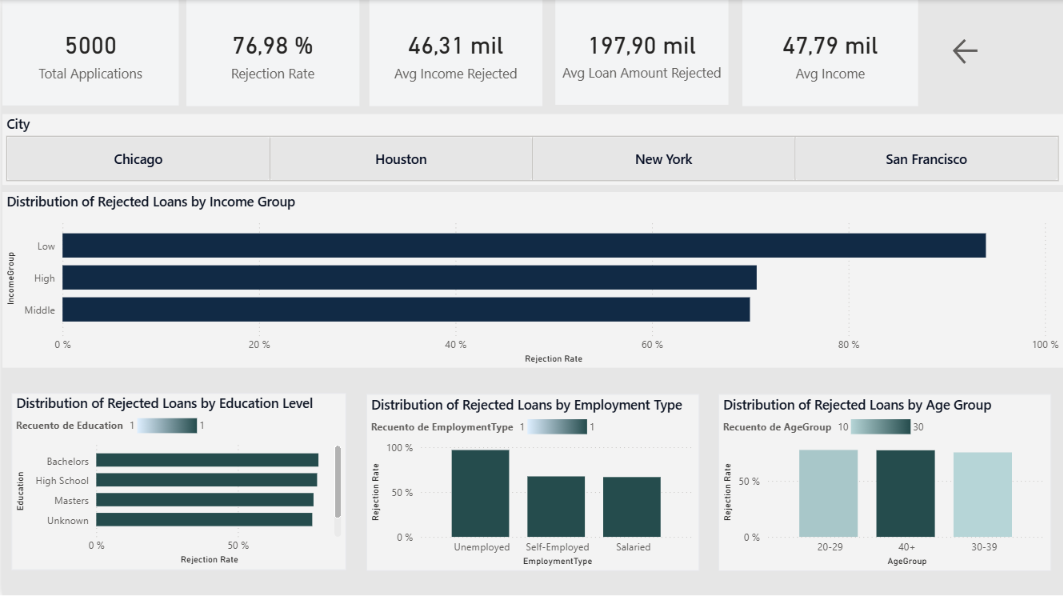

The page's visual inventory and layout, read from the dashboard file:
{"tool":"powerbi","page":{"name":"Loan Rejection Analysis","canvas":[1280,720],"ordinal":2},"visuals":[{"type":"card","fields":{"Values":["Medidas.Avg Loan Amount Rejected"]},"box":[667.2,0,208.7,126.7],"z":0},{"type":"card","fields":{"Values":["LoanRiskPrediction.Rejection Rate"]},"box":[222,0,208.7,127.9],"z":1000},{"type":"card","fields":{"Values":["LoanRiskPrediction.Total Solicitudes"]},"box":[0,0,212.8,127.2],"z":2000},{"type":"card","fields":{"Values":["LoanRiskPrediction.Avg Income Rejected"]},"box":[442.8,0,208.7,127.9],"z":3000},{"type":"card","fields":{"Values":["Loan.Avg Income"]},"box":[892.8,0,212.3,127.9],"z":4000},{"type":"advancedSlicerVisual","fields":{"Values":["City.City"]},"box":[0,137.5,1280,85.7],"z":5000},{"type":"barChart","title":"Distribution of Rejected Loans by Income Group","fields":{"Category":["IncomeGroup.IncomeGroup"],"Y":["LoanRiskPrediction.Rejection Rate"]},"box":[0,231.6,1280,212.3],"z":6000},{"type":"columnChart","title":"Distribution of Rejected Loans by Age Group","fields":{"Category":["Age.AgeGroup"],"Y":["LoanRiskPrediction.Rejection Rate"]},"box":[863.8,475.3,401.7,213.5],"z":7000},{"type":"barChart","title":"Distribution of Rejected Loans by Education Level","fields":{"Category":["Education.Education"],"Y":["LoanRiskPrediction.Rejection Rate"]},"box":[10.9,474.1,404.2,213.5],"z":8000},{"type":"columnChart","title":"Distribution of Rejected Loans by Employment Type","fields":{"Category":["EmploymentType.EmploymentType"],"Y":["LoanRiskPrediction.Rejection Rate"]},"box":[438.5,475.3,401.7,213.5],"z":9000},{"type":"actionButton","box":[1142.5,42.2,61.5,39.8],"z":10000}]}

Visuals, with their boxes in screenshot pixels (x1, y1, x2, y2), scaled from the page's 1280x720 canvas onto the 1063x596 screenshot:
card - Medidas.Avg Loan Amount Rejected: [554,0,727,105]
card - LoanRiskPrediction.Rejection Rate: [184,0,358,106]
card - LoanRiskPrediction.Total Solicitudes: [0,0,177,105]
card - LoanRiskPrediction.Avg Income Rejected: [368,0,541,106]
card - Loan.Avg Income: [741,0,918,106]
advancedSlicerVisual - City.City: [0,114,1062,185]
"Distribution of Rejected Loans by Income Group" barChart: [0,192,1062,367]
"Distribution of Rejected Loans by Age Group" columnChart: [717,393,1051,570]
"Distribution of Rejected Loans by Education Level" barChart: [9,392,345,569]
"Distribution of Rejected Loans by Employment Type" columnChart: [364,393,698,570]
actionButton: [949,35,1000,68]
